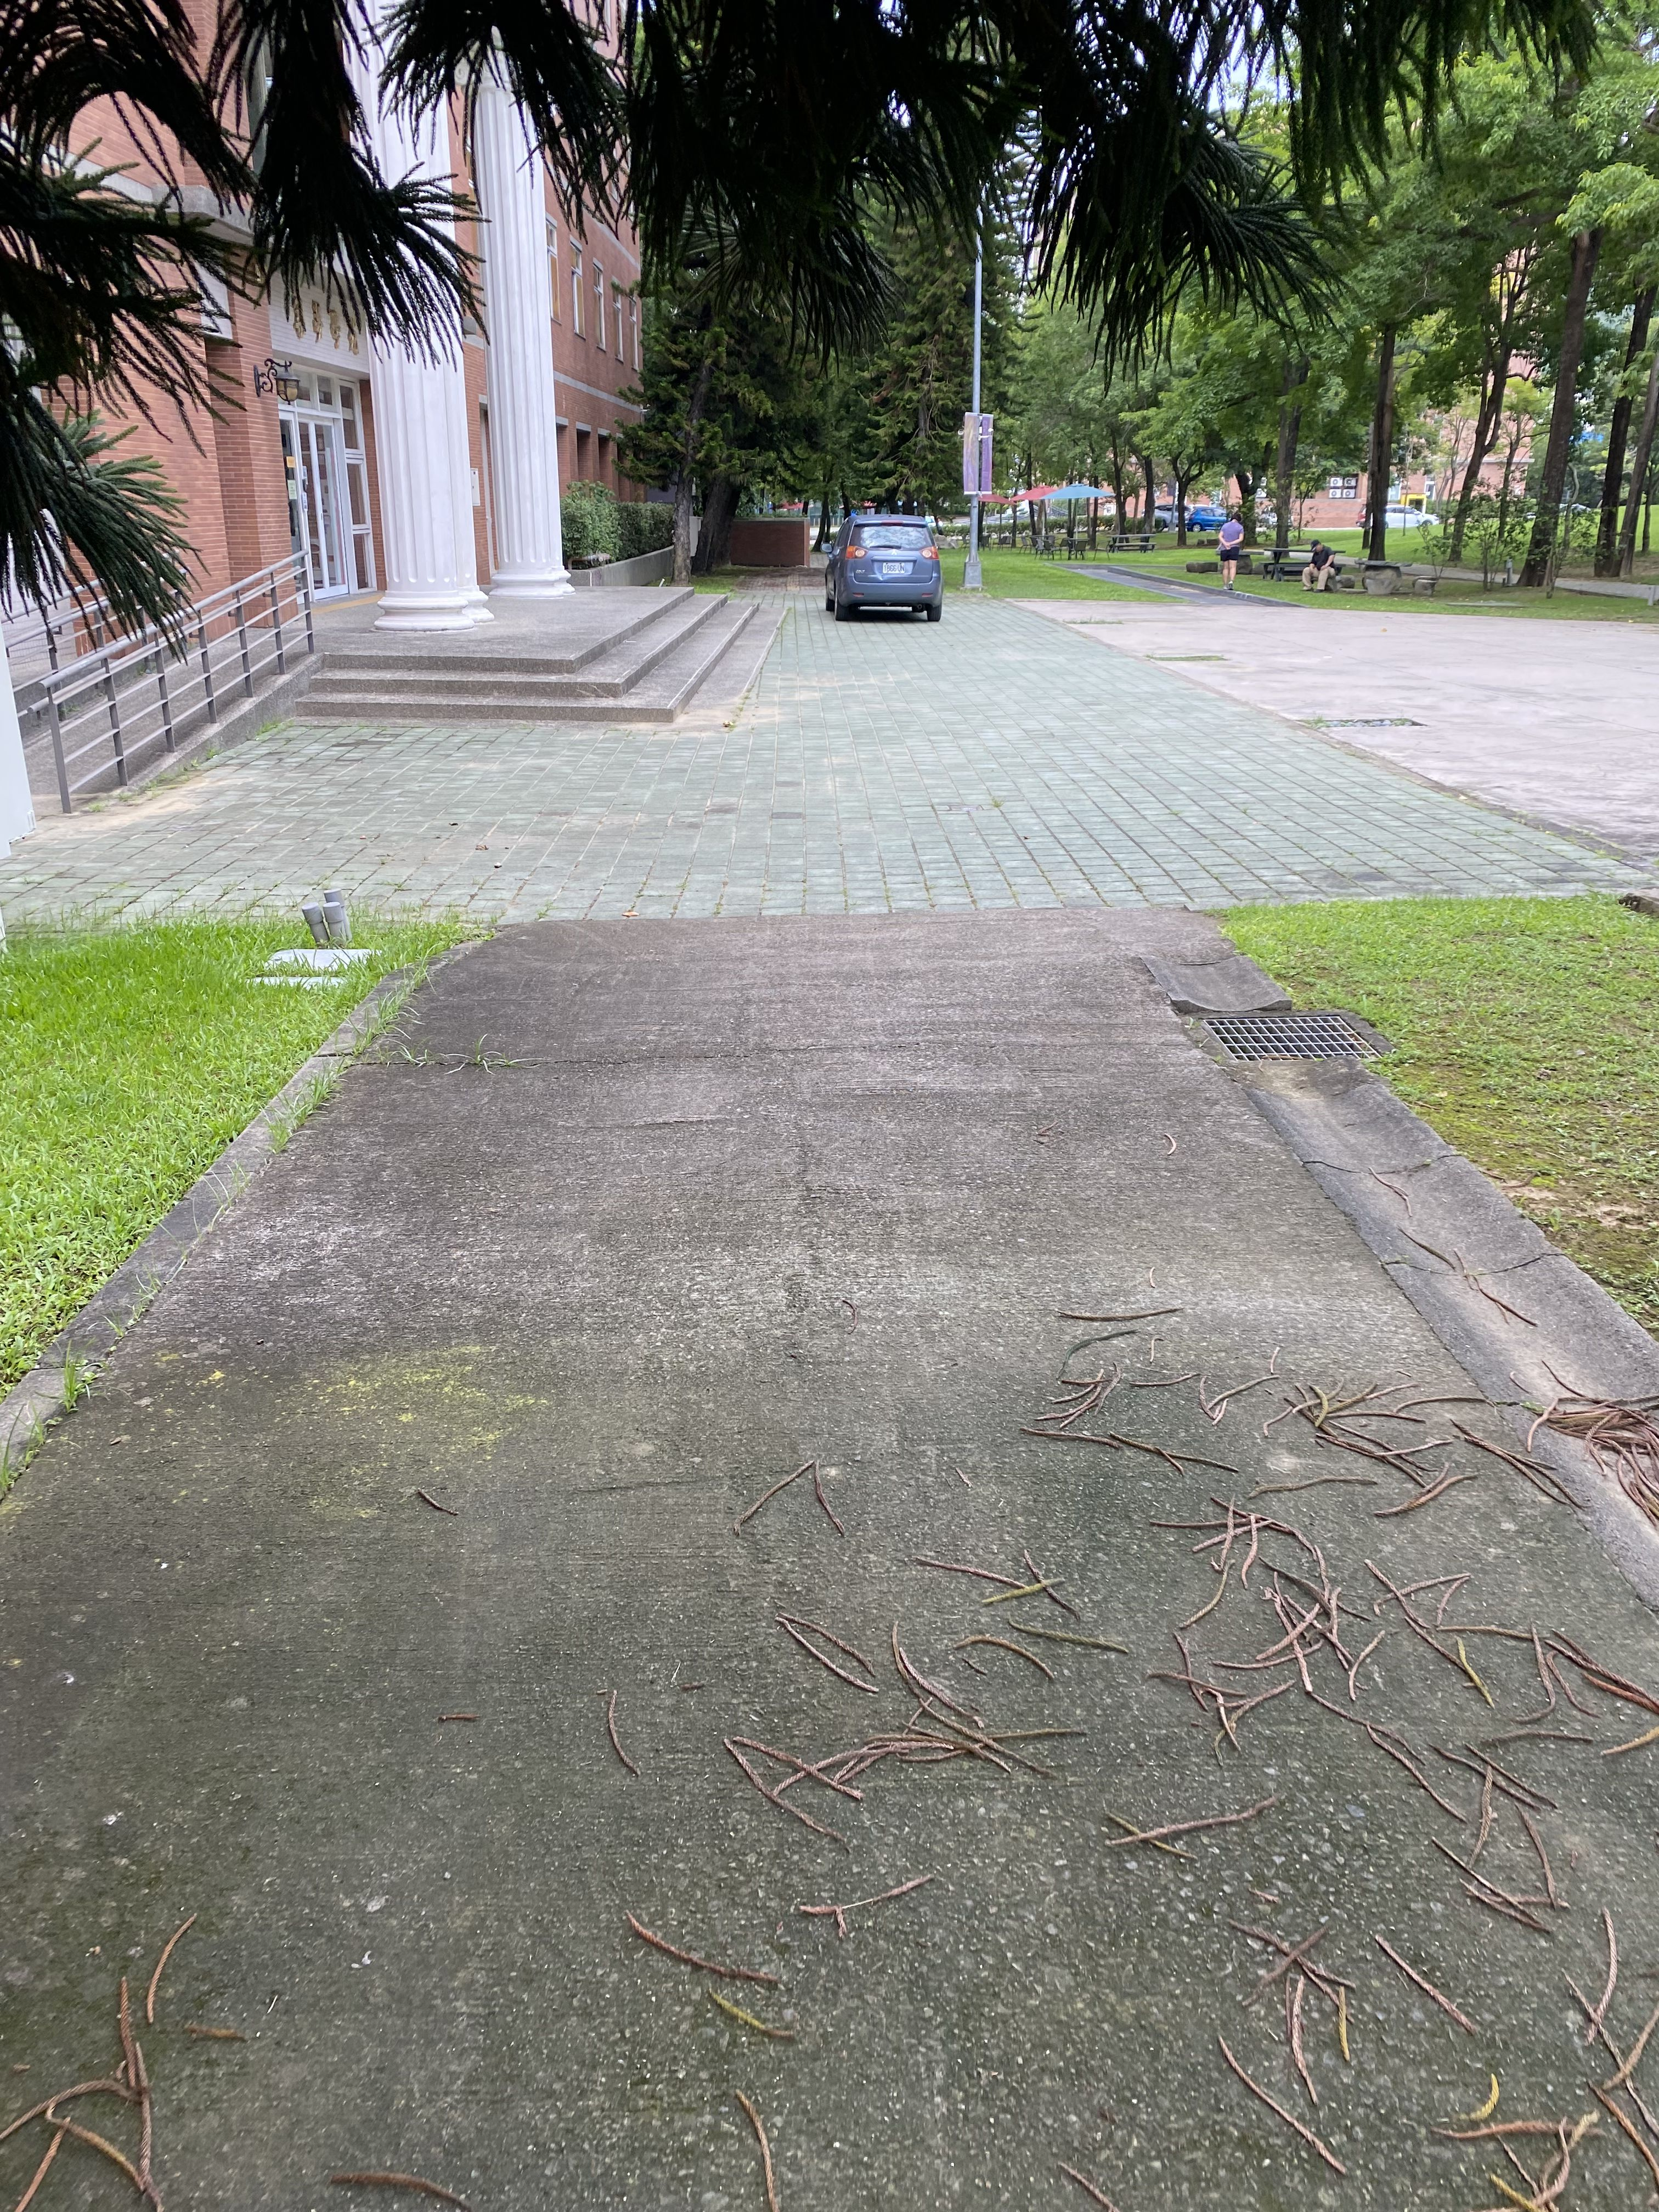sidewalk: (10, 573, 1656, 2200)
